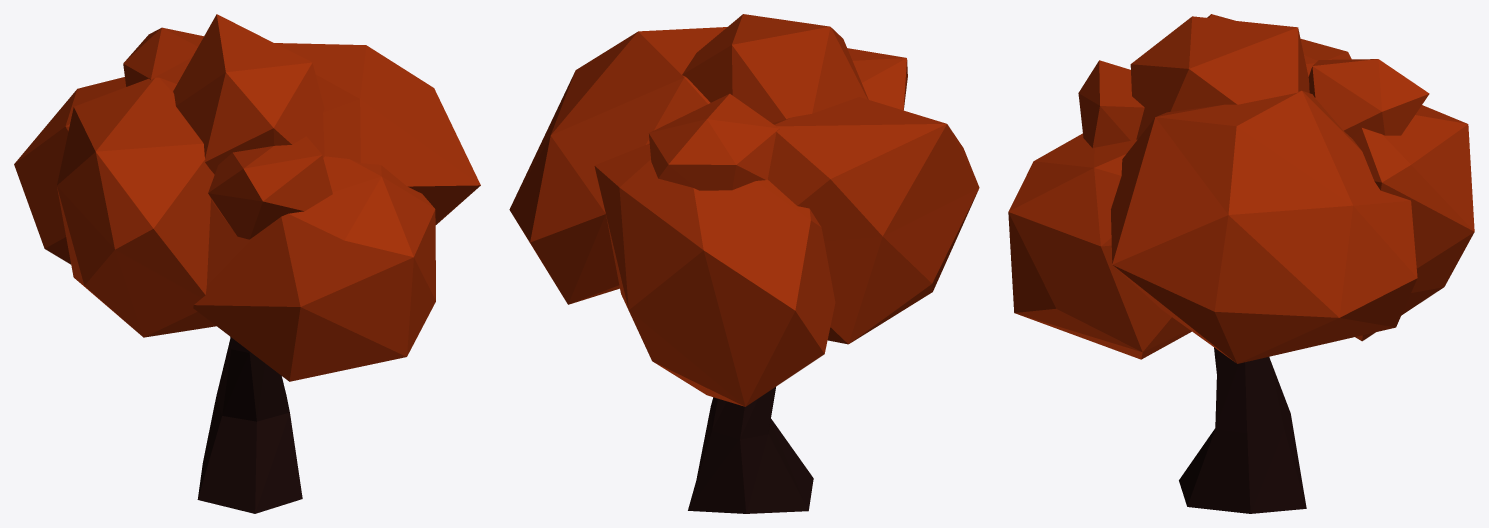
The model's file is M_G_NutTree.FBX.
The picture shows the model from 3 angles, left to right: view 1: azimuth 30°, elevation 25°; view 2: azimuth 150°, elevation 25°; view 3: azimuth 270°, elevation 25°; orthographic projection. The views are drawn at different scales.
Visible parts, largest first — view 1: GeoSphere054, GeoSphere048, GeoSphere049, GeoSphere051, Cylinder012, GeoSphere053, GeoSphere050, GeoSphere052; view 2: GeoSphere050, GeoSphere048, GeoSphere049, GeoSphere051, Cylinder012, GeoSphere052, GeoSphere053; view 3: GeoSphere049, GeoSphere054, Cylinder012, GeoSphere051, GeoSphere050, GeoSphere052, GeoSphere053, GeoSphere048.
Boxes of the visible parts, box(x1,y1,x2,y2) form: GeoSphere054: box(193, 156, 435, 381); GeoSphere048: box(57, 77, 216, 337); GeoSphere049: box(274, 43, 480, 224); GeoSphere051: box(173, 14, 324, 174); Cylinder012: box(197, 337, 302, 513); GeoSphere053: box(208, 136, 332, 239); GeoSphere050: box(14, 77, 126, 264); GeoSphere052: box(123, 27, 203, 86); GeoSphere050: box(594, 143, 835, 406); GeoSphere048: box(767, 97, 979, 344); GeoSphere049: box(509, 27, 726, 304); GeoSphere051: box(682, 14, 868, 122); Cylinder012: box(688, 387, 813, 513); GeoSphere052: box(648, 93, 779, 190); GeoSphere053: box(847, 48, 907, 110); GeoSphere049: box(1111, 90, 1417, 363); GeoSphere054: box(1008, 133, 1191, 359); Cylinder012: box(1179, 347, 1306, 513); GeoSphere051: box(1130, 16, 1309, 139); GeoSphere050: box(1353, 105, 1474, 341); GeoSphere052: box(1308, 59, 1429, 138); GeoSphere053: box(1078, 60, 1144, 148); GeoSphere048: box(1207, 14, 1351, 76).
Bounding box in the file's own units: 492 × 577 × 524.
